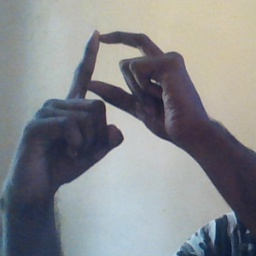D: (43, 23, 183, 149)
